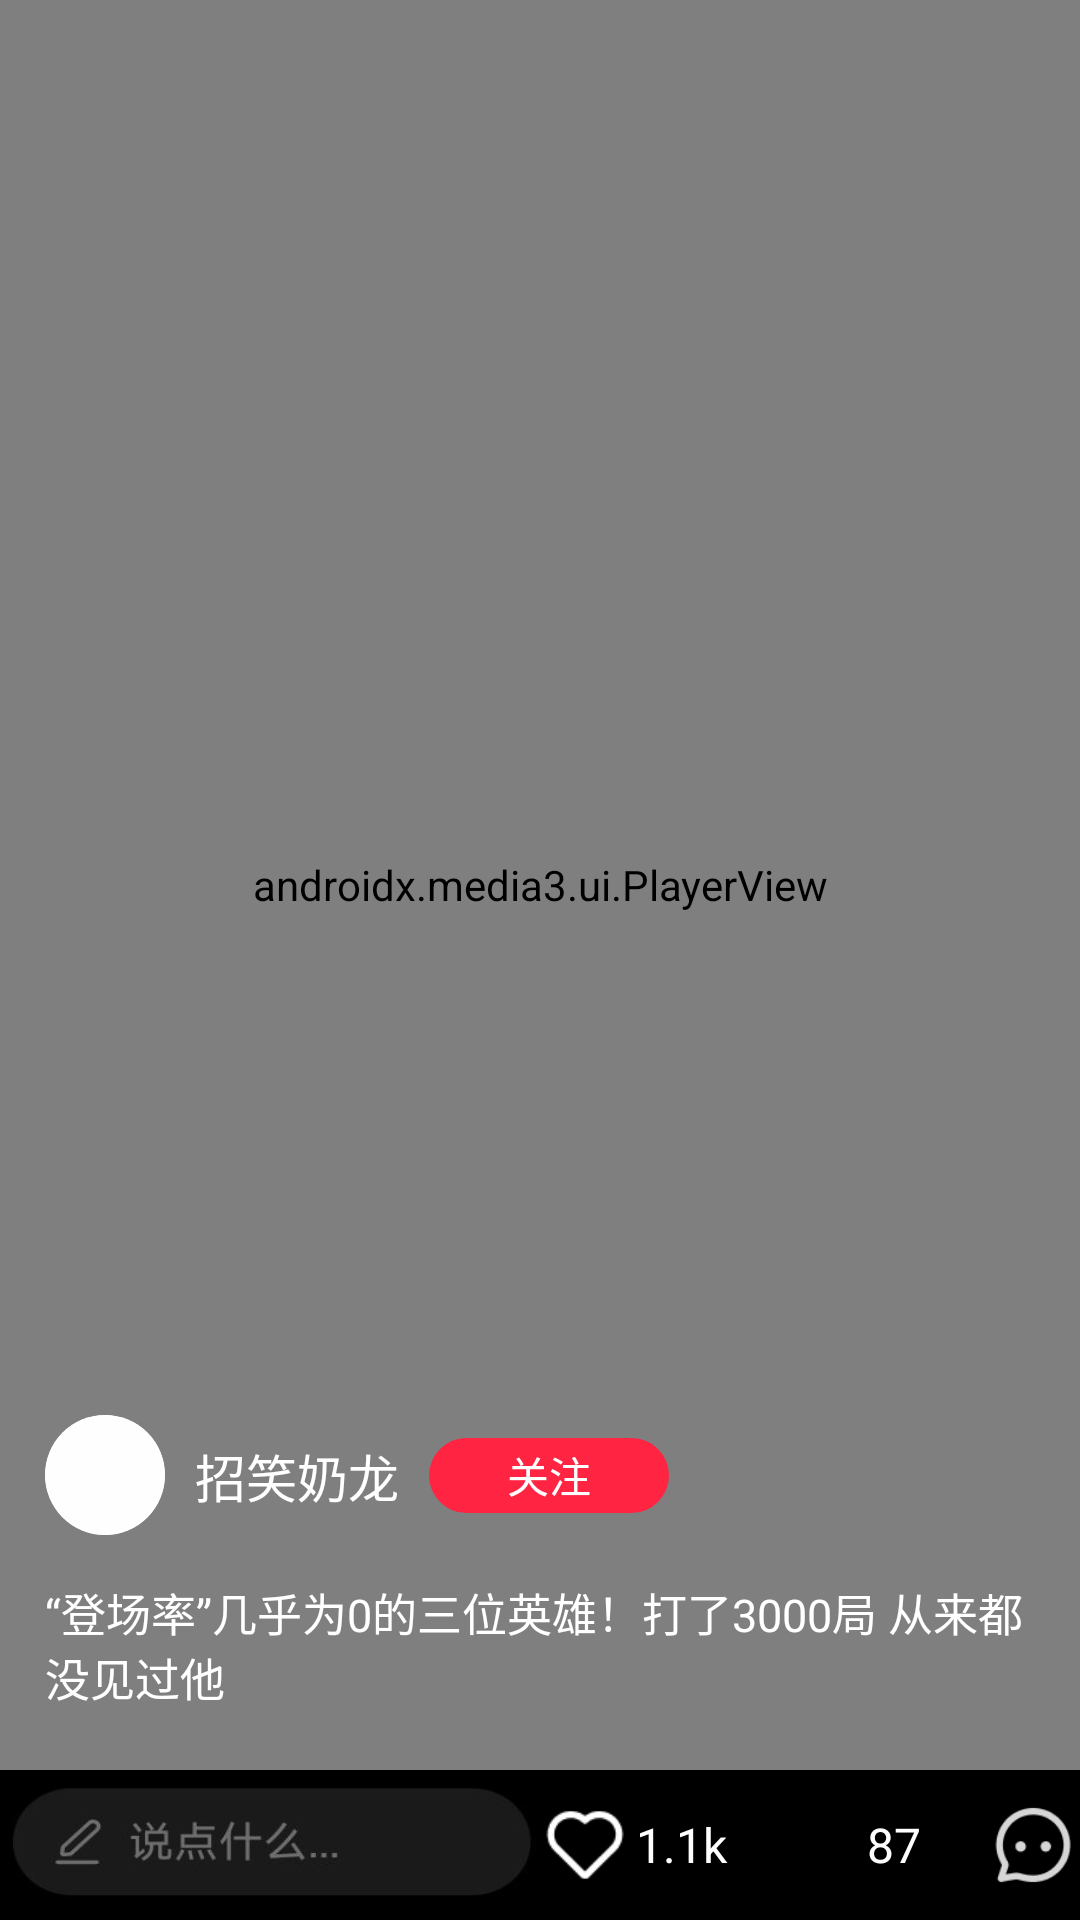

Screen size 1080x1920. Icon name, then its center in pixels as point (x, y):
pic comments: point (1033, 1845)
pic shortvideo love: point (585, 1845)
